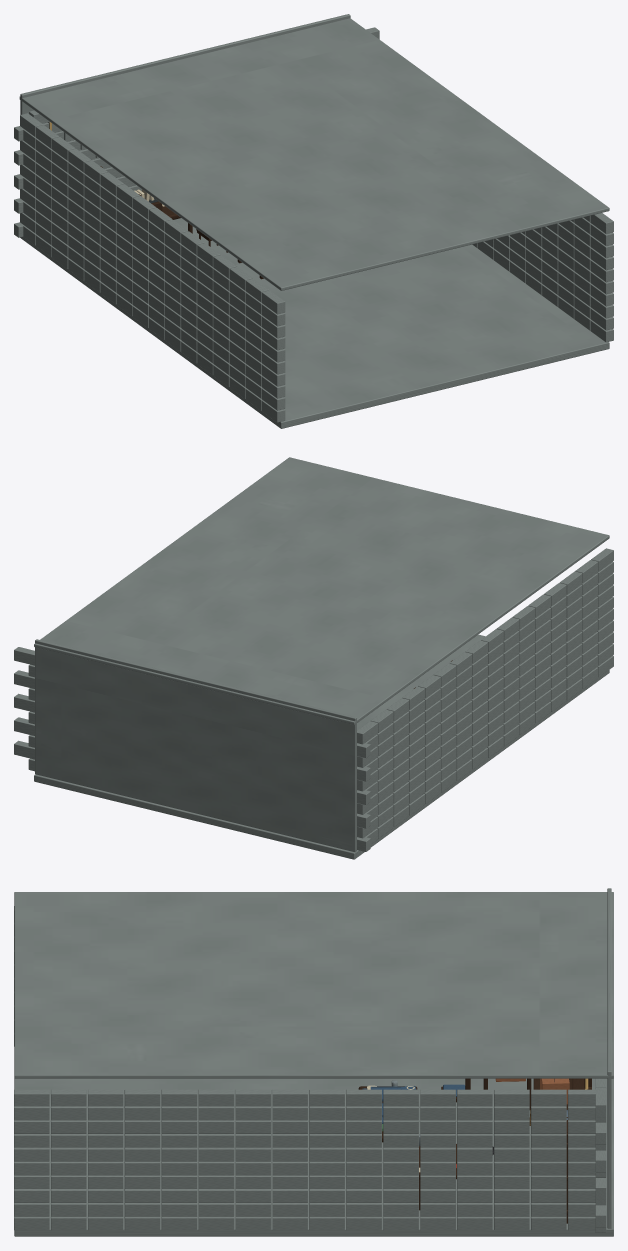
Rendered from basement.glb.
The picture shows the model from 3 angles, top to bottom: view 1: azimuth 30°, elevation 25°; view 2: azimuth 150°, elevation 25°; view 3: azimuth 270°, elevation 25°; orthographic projection. The views are drawn at different scales.
Visible parts, largest first — view 1: Basement ceiling, Concrete slab, Masonry backing; view 2: Basement ceiling, Masonry backing, Concrete slab; view 3: Basement ceiling, Concrete slab, Masonry backing, Side masonry.295, Side masonry.297, Side masonry.299, Side masonry.301, Side masonry.289, Side masonry.307, Side masonry.309, Side masonry.311, Side masonry.313 (+142 smaller).
Boxes of the visible parts, x1=… form: Basement ceiling: x1=19, y1=18, x2=609, y2=290; Concrete slab: x1=20, y1=218, x2=609, y2=428; Masonry backing: x1=20, y1=14, x2=350, y2=114; Basement ceiling: x1=34, y1=457, x2=609, y2=724; Masonry backing: x1=35, y1=639, x2=356, y2=852; Concrete slab: x1=34, y1=634, x2=609, y2=859; Basement ceiling: x1=14, y1=892, x2=613, y2=1078; Concrete slab: x1=14, y1=1078, x2=613, y2=1236; Masonry backing: x1=607, y1=888, x2=611, y2=1228; Side masonry.295: x1=124, y1=1089, x2=160, y2=1106; Side masonry.297: x1=161, y1=1089, x2=197, y2=1106; Side masonry.299: x1=198, y1=1089, x2=234, y2=1106; Side masonry.301: x1=235, y1=1089, x2=271, y2=1106; Side masonry.289: x1=14, y1=1089, x2=49, y2=1106; Side masonry.307: x1=346, y1=1089, x2=381, y2=1106; Side masonry.309: x1=383, y1=1089, x2=418, y2=1106; Side masonry.311: x1=420, y1=1089, x2=455, y2=1106; Side masonry.313: x1=457, y1=1089, x2=492, y2=1106.
Bounding box in the file's own units: 10.99 × 4.2 × 13.81.
Materials: 25 (24 with a texture image).
